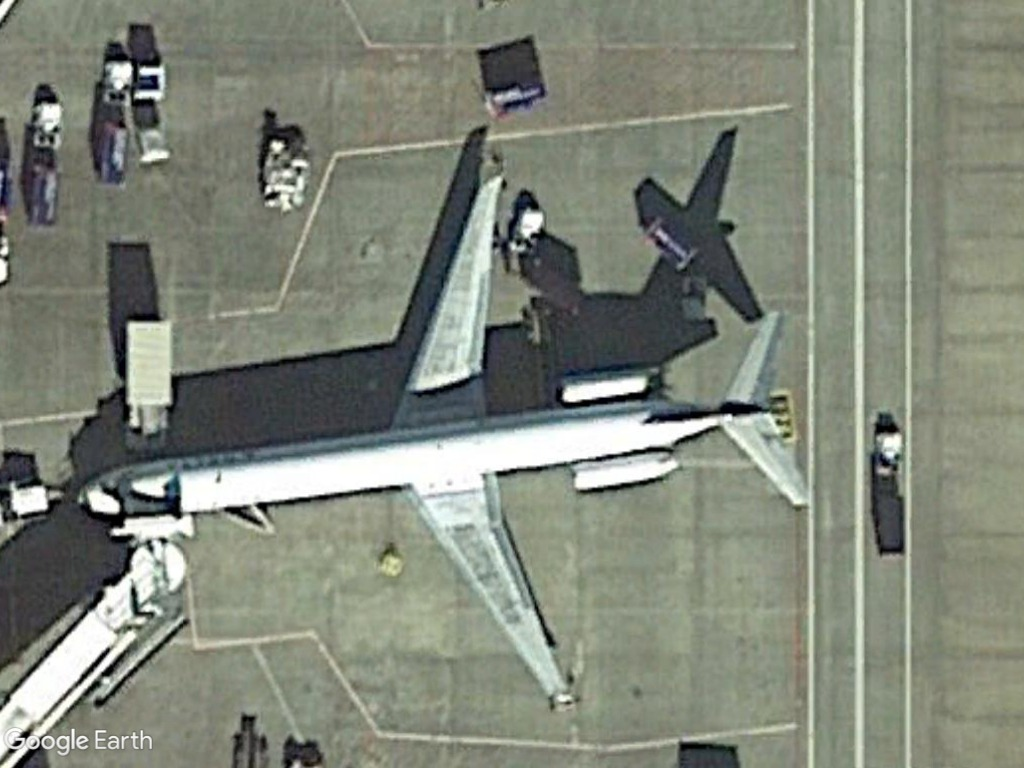chartered: (68, 167, 817, 709)
truck: (111, 313, 182, 457)
